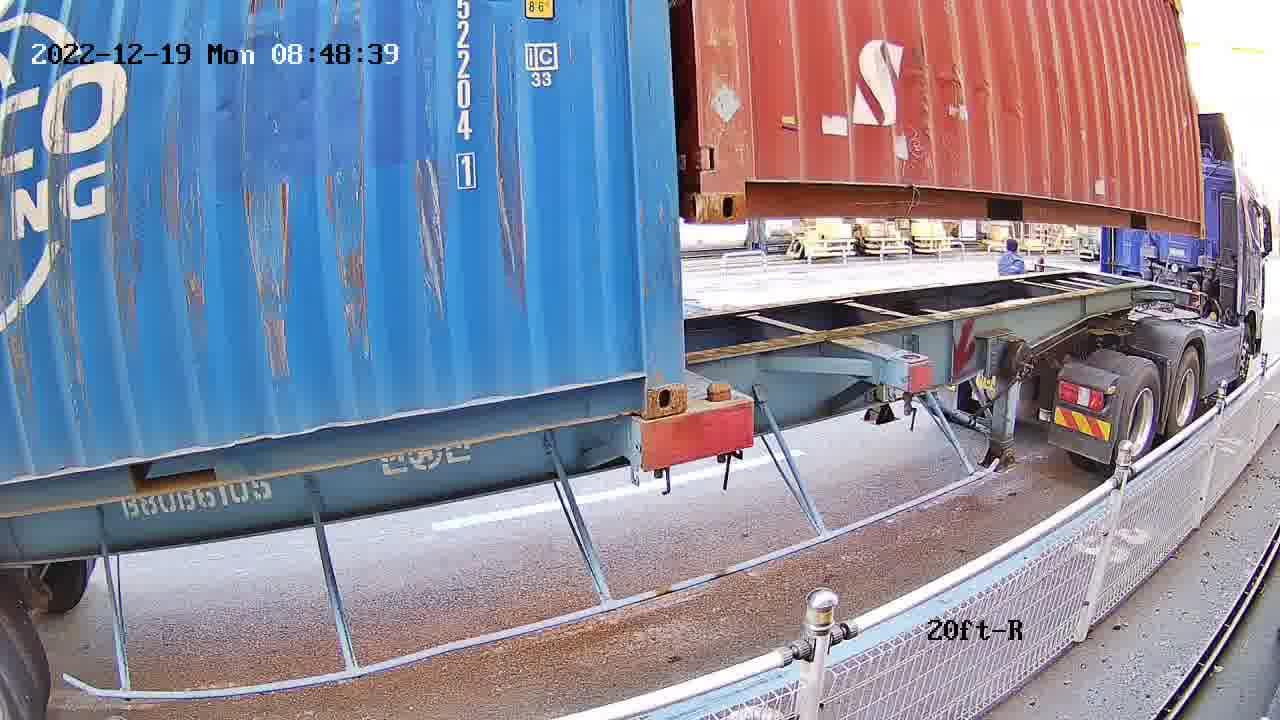Cone: (704, 382, 746, 457), (643, 418, 686, 472)
Hole_L: (701, 148, 772, 223)
Hole_R: (601, 344, 686, 419)
Tire: (1115, 364, 1161, 468), (1167, 350, 1200, 440)
